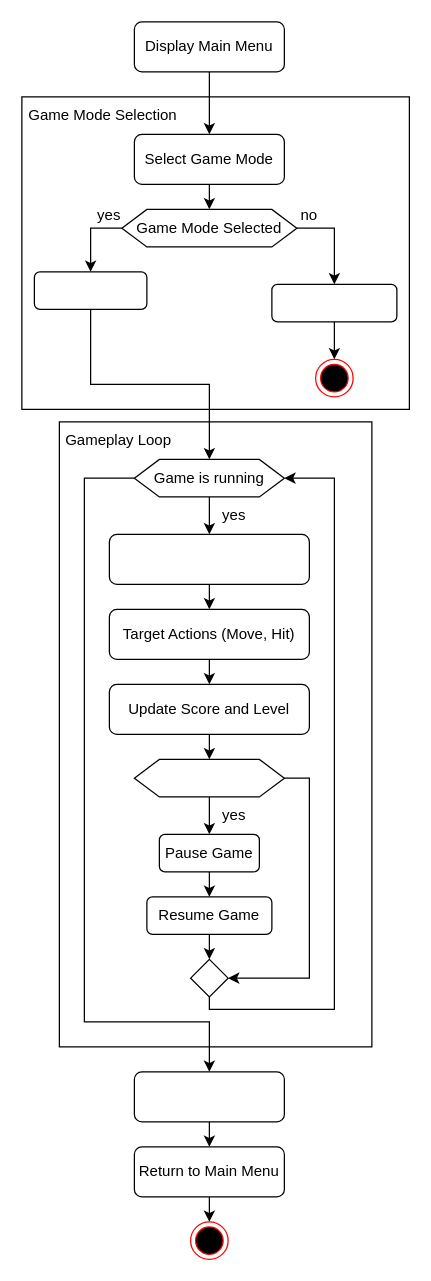
Image size: 431x1281. Some labels were removed from this diagram. The box of each missing label's shape, as (x1, y1, x2, y2) in pixels:
Pause Game?: (133, 758, 284, 797)
Player Actions (Move, Shoot): (108, 533, 309, 584)
Start Game: (33, 271, 147, 309)
Update High Scores: (133, 1071, 284, 1122)
View High Scores: (271, 283, 397, 322)
